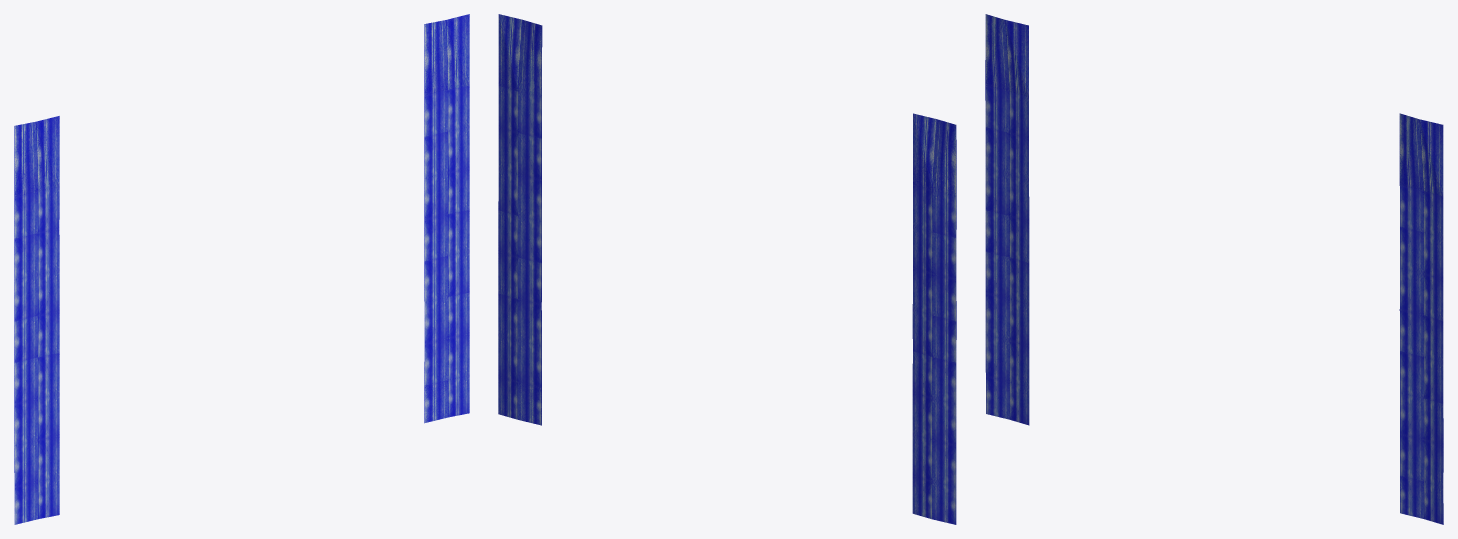
3 renders of one model, left to right at view 1: azimuth 30°, elevation 25°; view 2: azimuth 150°, elevation 25°; view 3: azimuth 330°, elevation 25°, orthographic.
Bounding box in the file's own units: 0.2563 × 0.2143 × 0.00281.
Materials: 1 (1 with a texture image).
